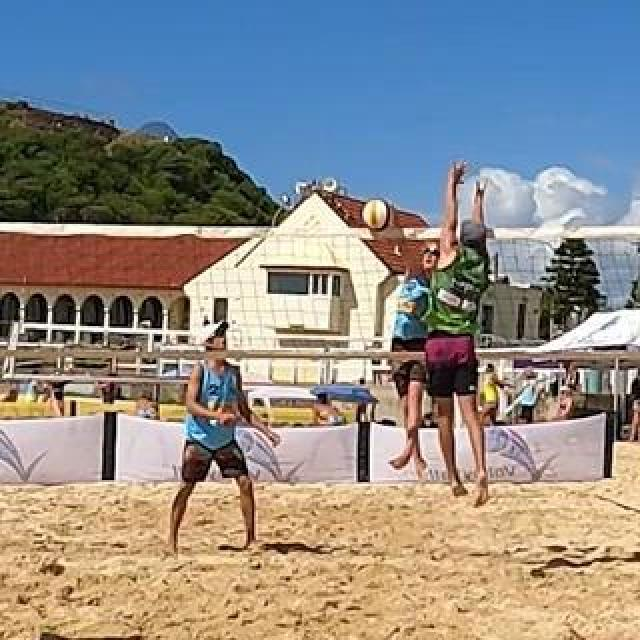volleyball: (363, 200, 393, 230)
